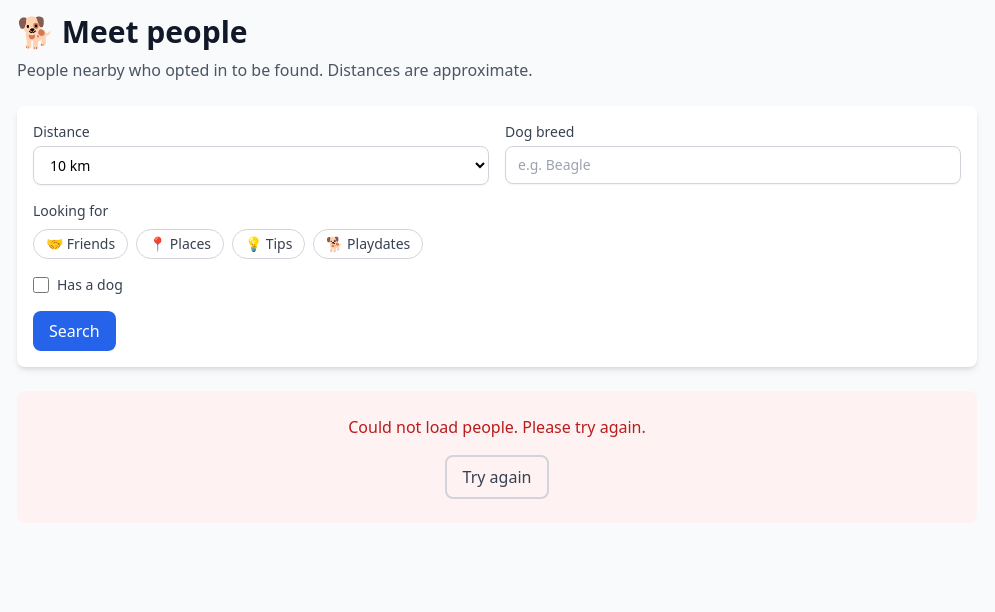
people page › shows the error state and retries
Expected: the element with test id "error" shows "Could not load people", [348,416,646,438]
Click the button "Try again".
click(497, 477)  # box [445,455,549,499]
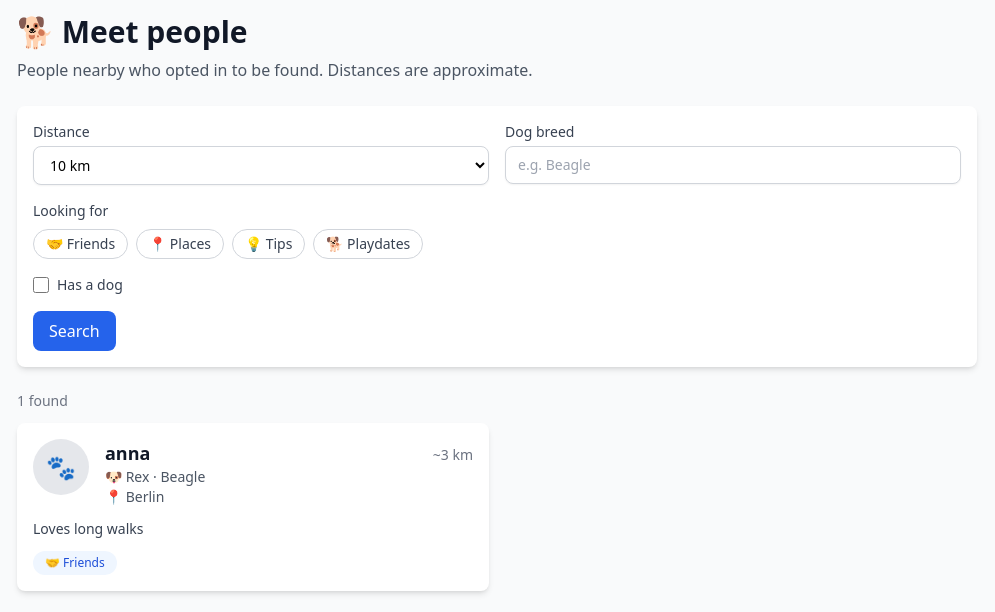
Result: the list item with test id "person-card" is shown at [17,423,489,591]
